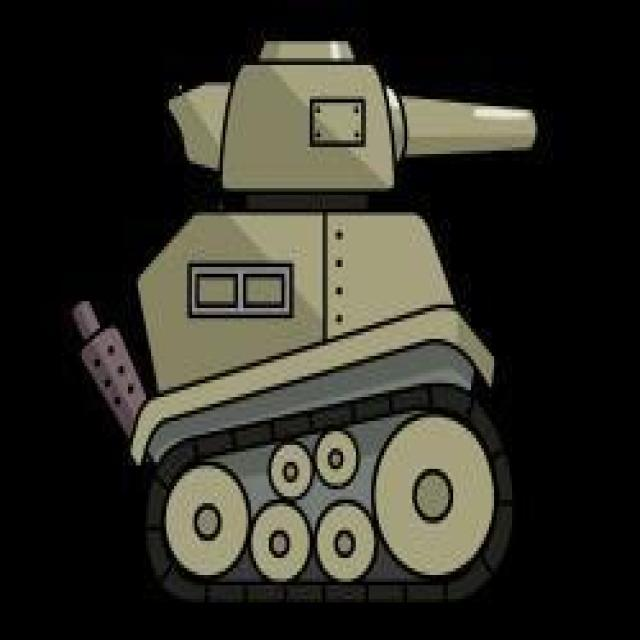MIL_MBT: (102, 26, 538, 604)
